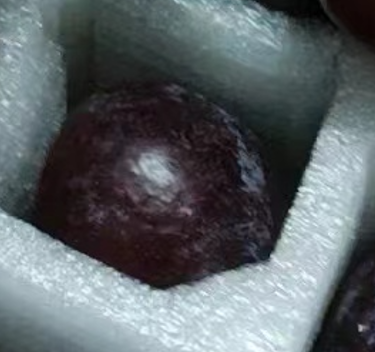plum_A: (32, 77, 283, 290)
